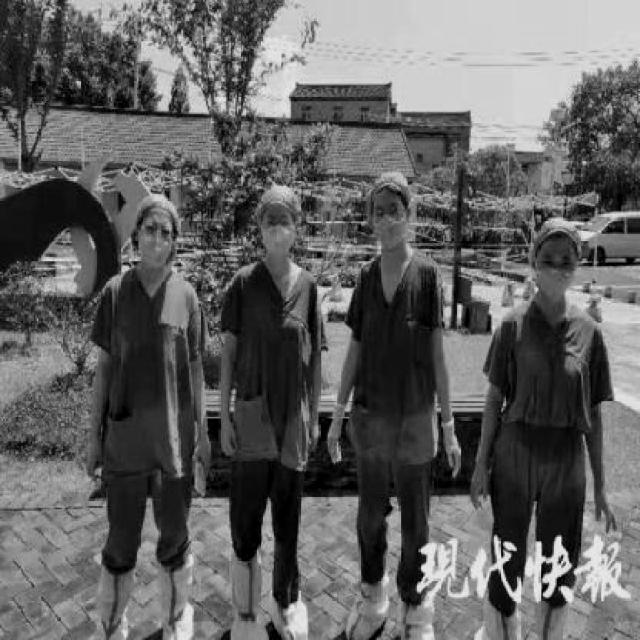face_mask: (537, 237, 577, 295), (256, 204, 296, 258), (374, 197, 411, 246), (137, 223, 172, 269)
hand_glove: (324, 411, 344, 466), (445, 428, 463, 480)
hand_noglove: (592, 488, 616, 532), (466, 468, 488, 512), (83, 438, 105, 480), (192, 431, 214, 472), (218, 421, 237, 454), (306, 418, 320, 456)
head_nohelmet: (128, 188, 183, 226), (365, 168, 409, 202), (257, 182, 297, 216), (534, 217, 577, 248)
person: (70, 178, 218, 640), (335, 178, 463, 631), (474, 226, 615, 637), (216, 191, 330, 638)
